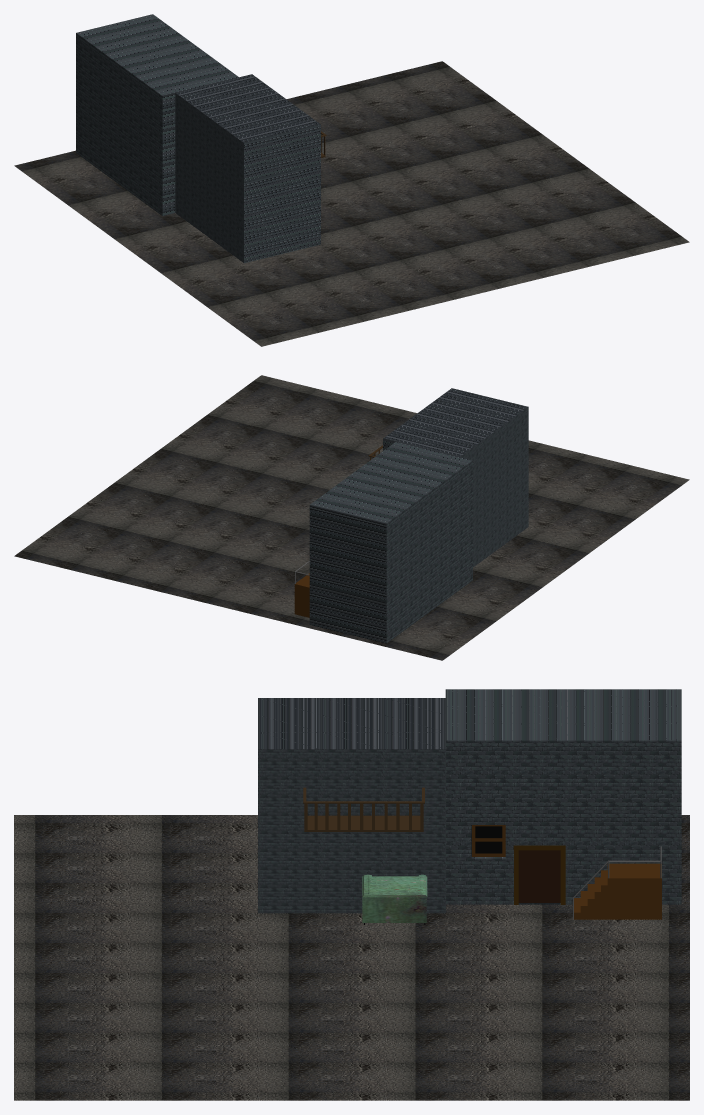
Rendered from background.fbx.
The picture shows the model from 3 angles, top to bottom: view 1: azimuth 30°, elevation 25°; view 2: azimuth 150°, elevation 25°; view 3: azimuth 270°, elevation 25°; orthographic projection. The views are drawn at different scales.
Parts seen in each view (by area): view 1: pCube50; view 2: pCube50; view 3: pCube50.
Boxes of the visible parts, x1=… form: pCube50: x1=14, y1=14, x2=689, y2=346; pCube50: x1=14, y1=375, x2=689, y2=660; pCube50: x1=14, y1=689, x2=689, y2=1100.
Bounding box in the file's own units: 27.9 × 7.51 × 27.9.
